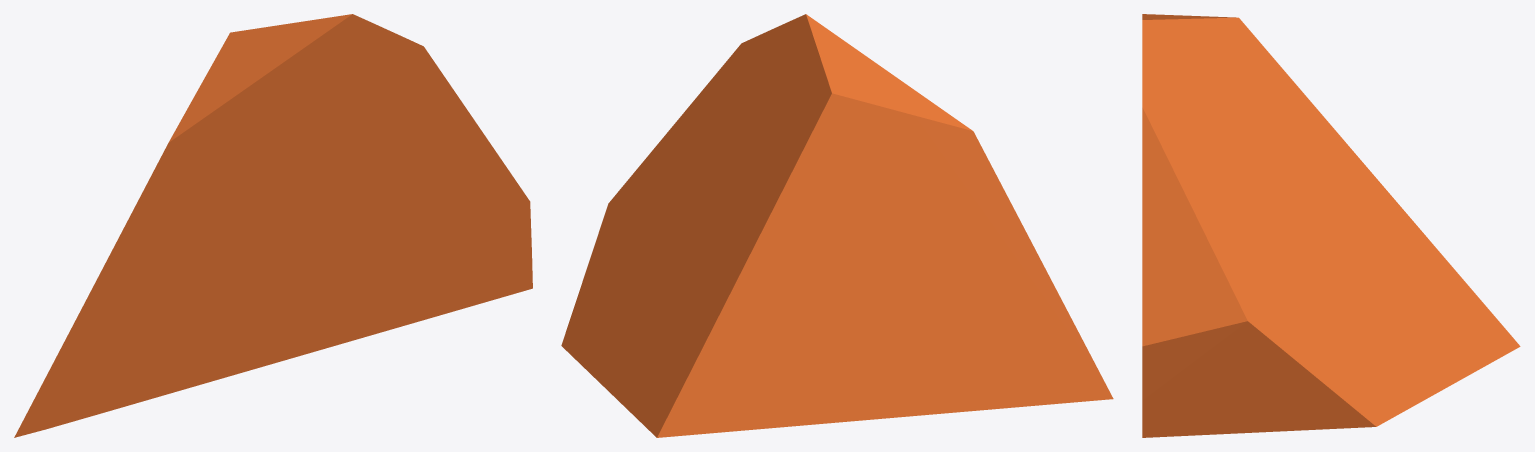
File: SMALLROCK05.fbx
3 renders of one model, left to right at view 1: azimuth 30°, elevation 25°; view 2: azimuth 150°, elevation 25°; view 3: azimuth 270°, elevation 25°, orthographic. The views are drawn at different scales.
Parts seen in each view (by area): view 1: SMALLROCK05; view 2: SMALLROCK05; view 3: SMALLROCK05.
Boxes of the visible parts, left/top/right/bottom form: SMALLROCK05: left=14, top=14, right=532, bottom=437; SMALLROCK05: left=561, top=14, right=1113, bottom=437; SMALLROCK05: left=1142, top=14, right=1520, bottom=437.
Size of the model in its own units: 27.63 by 17.37 by 16.97.
